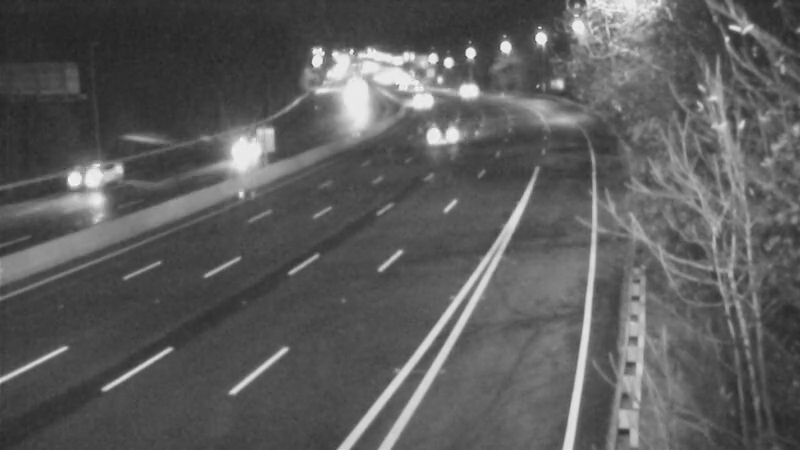vehicle: (37, 141, 117, 221), (202, 114, 282, 194), (442, 66, 492, 116), (394, 73, 444, 123), (422, 105, 472, 155)
